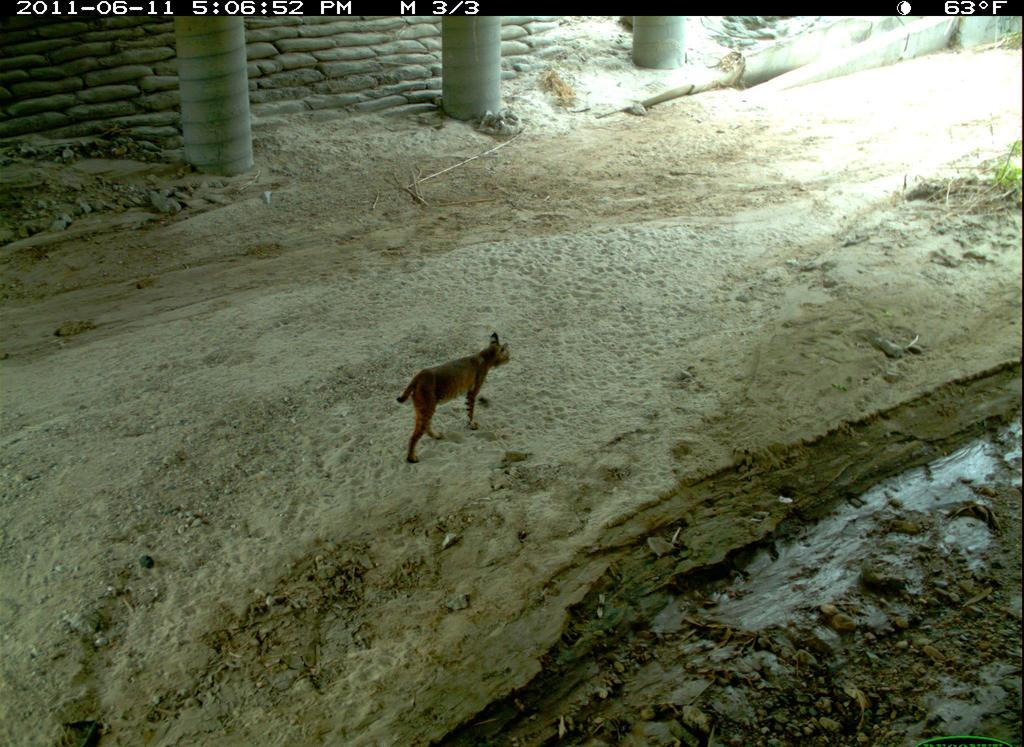bobcat: (392, 322, 519, 470)
